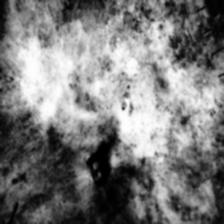Potentially Malignant Skin Tumors: (79, 136, 119, 194)
